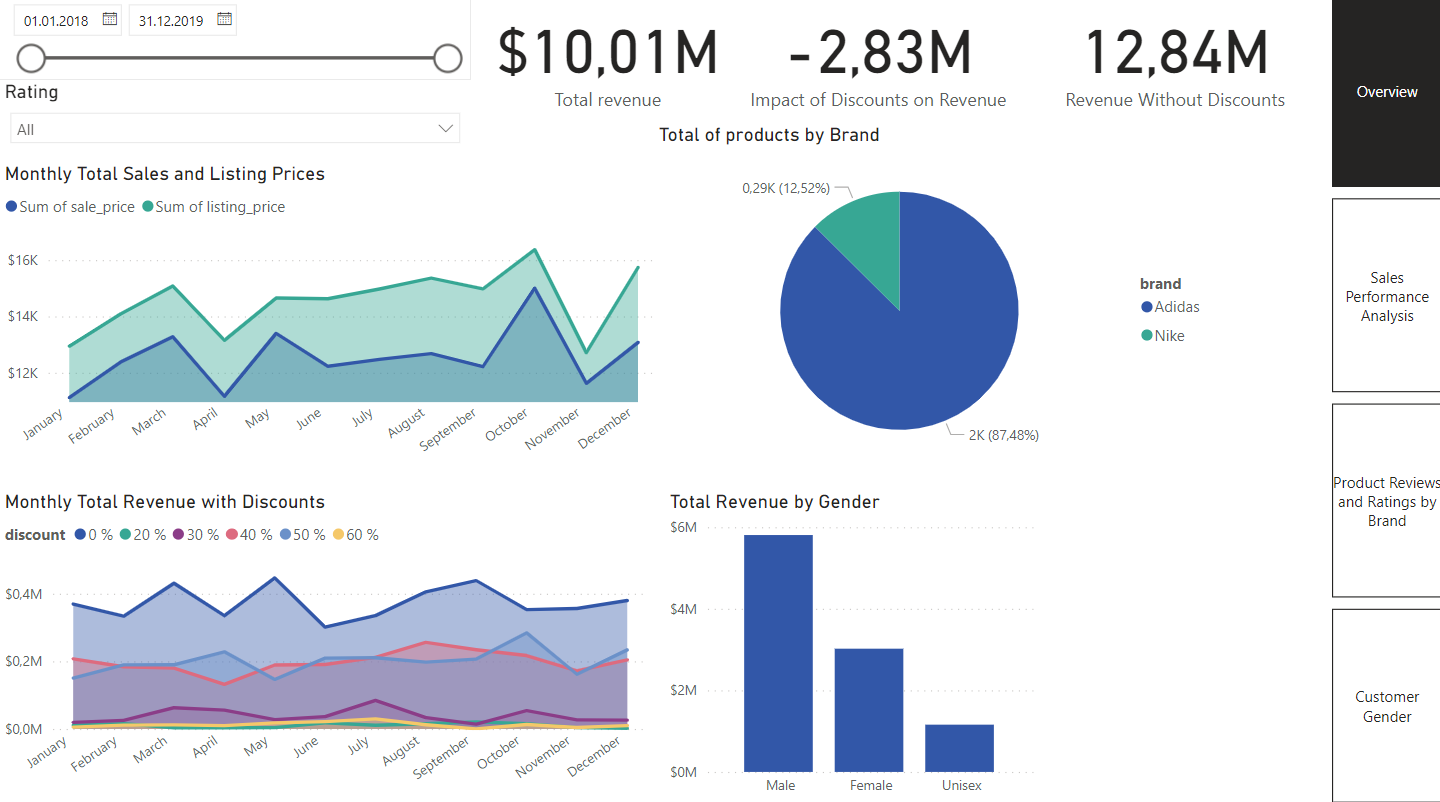

The dashboard page shown, as its layout file describes it:
{"tool":"powerbi","page":{"name":"Overview","canvas":[1280,720],"ordinal":0},"visuals":[{"type":"areaChart","title":"Monthly Total Sales and Listing Prices","fields":{"Category":["Dim_traffic_v3.last_visited.Variation.Date Hierarchy.Year","Dim_traffic_v3.last_visited.Variation.Date Hierarchy.Quarter","Dim_traffic_v3.last_visited.Variation.Date Hierarchy.Month","Dim_traffic_v3.last_visited.Variation.Date Hierarchy.Day"],"Y":["Sum(Fact_finance.sale_price)","Sum(Fact_finance.listing_price)"]},"box":[0,149.7,589.9,279.9],"z":0},{"type":"areaChart","title":"Monthly Total Revenue with Discounts","fields":{"Category":["Dim_traffic_v3.last_visited.Variation.Date Hierarchy.Year","Dim_traffic_v3.last_visited.Variation.Date Hierarchy.Quarter","Dim_traffic_v3.last_visited.Variation.Date Hierarchy.Month","Dim_traffic_v3.last_visited.Variation.Date Hierarchy.Day"],"Y":["Sum(Fact_finance.revenue)"],"Series":["Fact_finance.discount"]},"box":[0,440.3,580.2,279.9],"z":1000},{"type":"lineStackedColumnComboChart","title":"Total Revenue by Gender","fields":{"Category":["Dim_info_v2.gender"],"Y":["Sum(Fact_finance.revenue)"]},"box":[589.9,440.3,333.4,279.9],"z":2000},{"type":"pieChart","title":"Total of products by Brand","fields":{"Category":["Dim_brands_v2.brand"],"Y":["CountNonNull(Dim_reviews_v2.product_id)"]},"box":[580.2,115.7,499.6,313.9],"z":3000},{"type":"slicer","fields":{"Values":["Dim_traffic_v3.last_visited"]},"box":[0,0,418.9,76.8],"z":4000},{"type":"card","fields":{"Values":["Sum(Fact_finance.revenue)"]},"box":[430.6,0,217.7,110.8],"z":5000},{"type":"slicer","title":"Rating","fields":{"Values":["Dim_reviews_v2.rating"]},"box":[0,76.8,418.9,67.1],"z":6000},{"type":"pageNavigator","box":[1181.8,0,98.2,720.2],"z":7000},{"type":"card","fields":{"Values":["Fact_finance.Impact of Discounts on Revenue"]},"box":[648.3,0,263.4,110.8],"z":8000},{"type":"card","fields":{"Values":["Fact_finance.Discounted Sales"]},"box":[904.8,0,277,110.8],"z":9000}]}

Visuals, with their boxes in screenshot pixels (x1, y1, x2, y2), scaled from the page's 1280x720 canvas onto the 1440x802 screenshot:
"Monthly Total Sales and Listing Prices" areaChart: bbox=[0, 167, 664, 479]
"Monthly Total Revenue with Discounts" areaChart: bbox=[0, 490, 653, 801]
"Total Revenue by Gender" lineStackedColumnComboChart: bbox=[664, 490, 1039, 801]
"Total of products by Brand" pieChart: bbox=[653, 129, 1215, 479]
slicer - Dim_traffic_v3.last_visited: bbox=[0, 0, 471, 86]
card - Sum(Fact_finance.revenue): bbox=[484, 0, 729, 123]
"Rating" slicer: bbox=[0, 86, 471, 160]
pageNavigator: bbox=[1330, 0, 1439, 801]
card - Fact_finance.Impact of Discounts on Revenue: bbox=[729, 0, 1026, 123]
card - Fact_finance.Discounted Sales: bbox=[1018, 0, 1330, 123]
